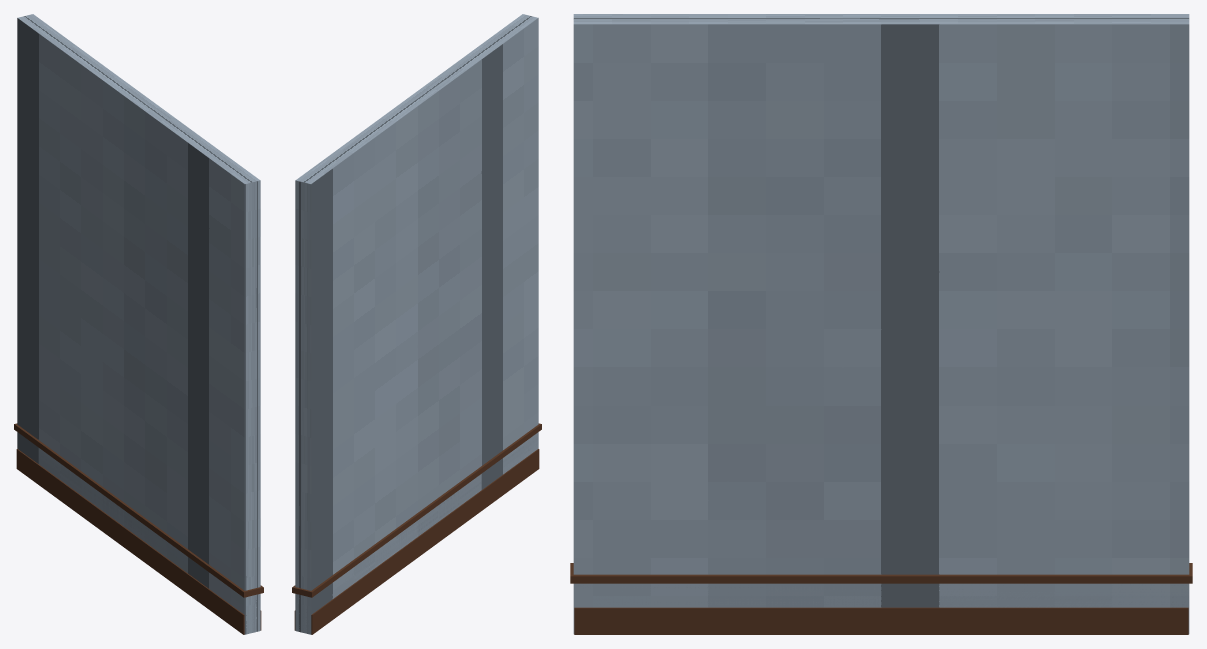
Rendered from stair_side.glb.
3 views of the same model, side by side, from view 1: azimuth 30°, elevation 25°; view 2: azimuth 150°, elevation 25°; view 3: azimuth 270°, elevation 25° (orthographic). The views are drawn at different scales.
Visible parts, largest first — view 1: Box1, Box2, Box4, Box3; view 2: Box1, Box2, Box3, Box4; view 3: Box1, Box2, Box4, Box3.
Part boxes in pixels (bbox=[...]): Box1: bbox=[17, 14, 260, 634]; Box2: bbox=[16, 449, 261, 634]; Box4: bbox=[14, 423, 263, 597]; Box3: bbox=[17, 432, 260, 633]; Box1: bbox=[295, 14, 538, 634]; Box2: bbox=[294, 449, 539, 634]; Box3: bbox=[295, 432, 538, 633]; Box4: bbox=[292, 423, 541, 597]; Box1: bbox=[573, 14, 1189, 633]; Box2: bbox=[574, 607, 1188, 634]; Box4: bbox=[570, 563, 1192, 583]; Box3: bbox=[573, 583, 1188, 619].
Bounding box in the file's own units: 0.19 × 4.1 × 3.79.
Materials: 2 (1 with a texture image).
